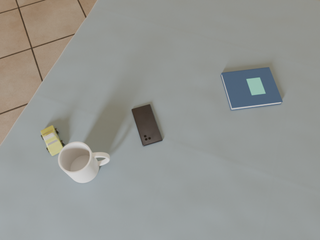book: (221, 67, 283, 110)
cup: (58, 142, 110, 183)
phone: (132, 104, 162, 146)
toy_car: (41, 126, 64, 156)
